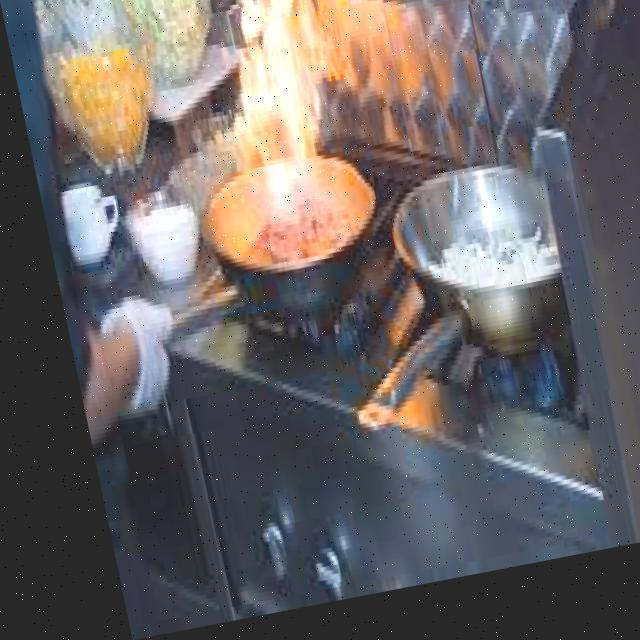Fire: (188, 0, 381, 285)
